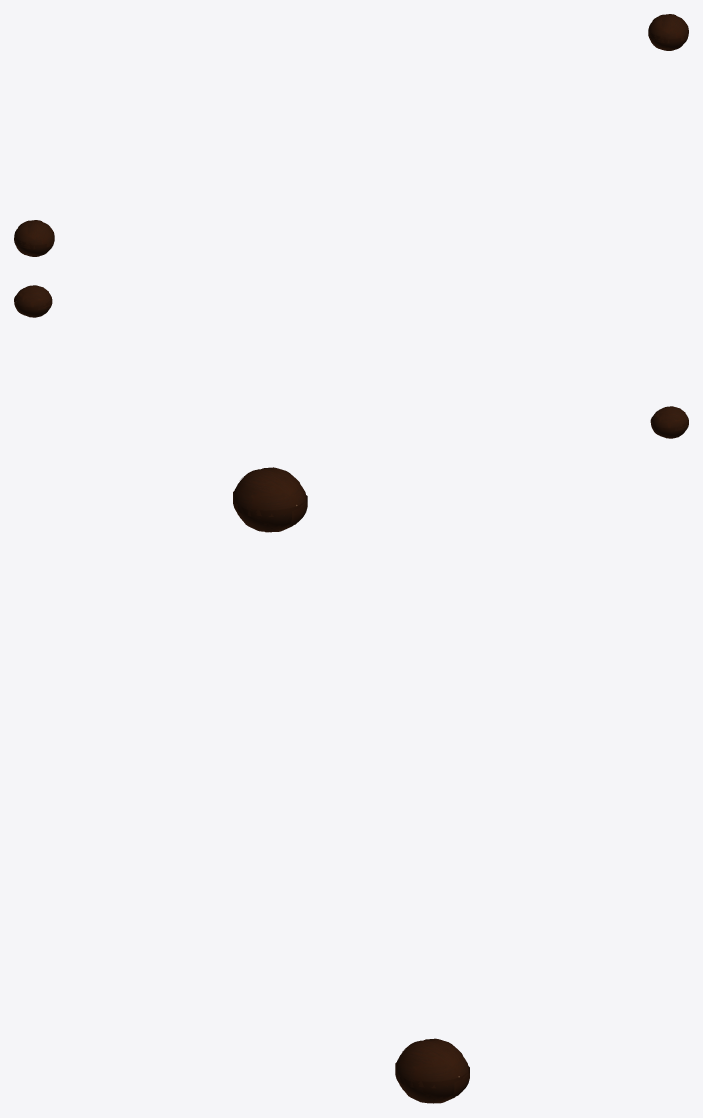
Rendered from crab_coconuts.glb.
The picture shows the model from 3 angles, top to bottom: view 1: azimuth 30°, elevation 25°; view 2: azimuth 150°, elevation 25°; view 3: azimuth 270°, elevation 25°; orthographic projection. The views are drawn at different scales.
Visible parts, largest first — view 1: PROP_Coconut_LR, PROP_Coconut_RL; view 2: PROP_Coconut_LR, PROP_Coconut_RL; view 3: PROP_Coconut_RL, PROP_Coconut_LR.
Part boxes in pixels (x1,y1,x2,y2): PROP_Coconut_LR: (14, 220, 54, 256); PROP_Coconut_RL: (648, 14, 688, 50); PROP_Coconut_LR: (650, 406, 688, 438); PROP_Coconut_RL: (14, 285, 52, 317); PROP_Coconut_RL: (395, 1038, 469, 1103); PROP_Coconut_LR: (233, 467, 307, 532).
Bounding box in the file's own units: 5.43 × 0.2792 × 0.8882.
2 materials, 2 textured.
